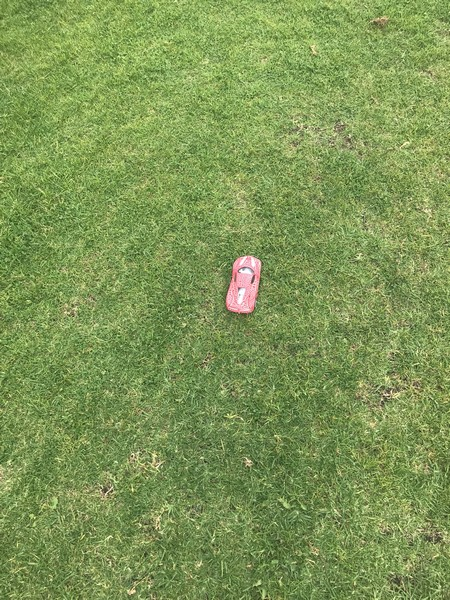RC: (224, 254, 263, 316)
